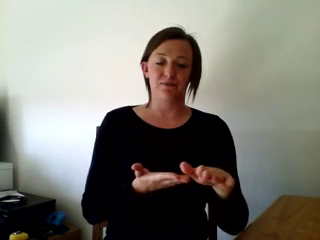H: (128, 152, 236, 202)
